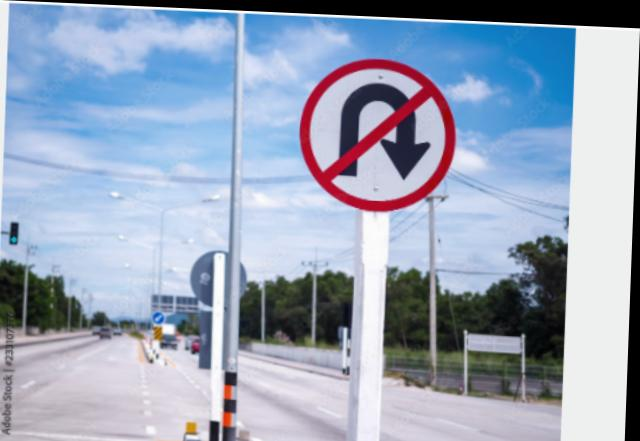not_u_turn_right: (301, 47, 458, 216)
